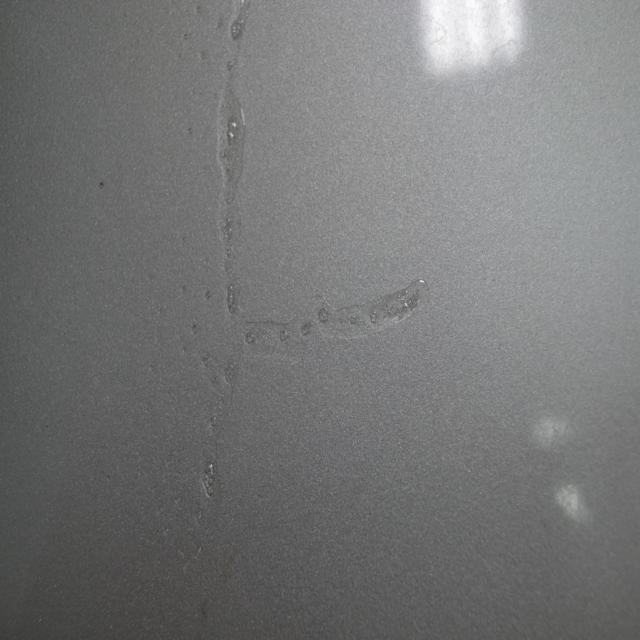dirt: (94, 174, 109, 193)
runs: (142, 1, 432, 570)
